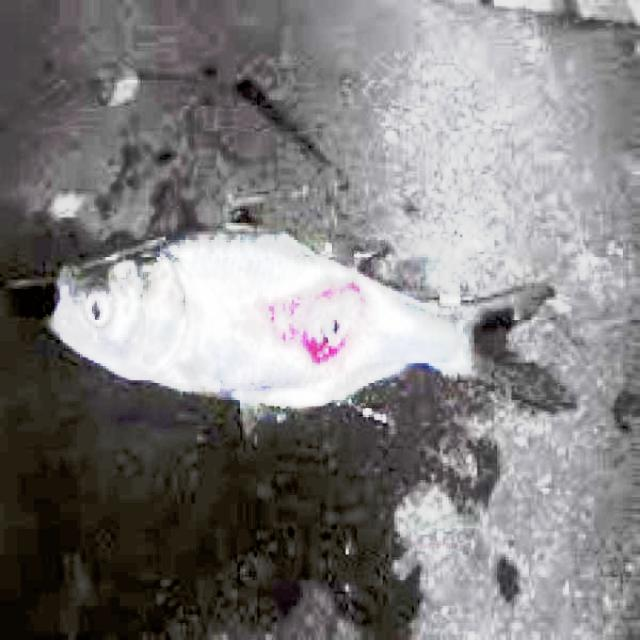Edwardsiella Ictaluri -Bacterial Red Disease-: (50, 207, 569, 415), (49, 205, 573, 411), (49, 228, 574, 411)
